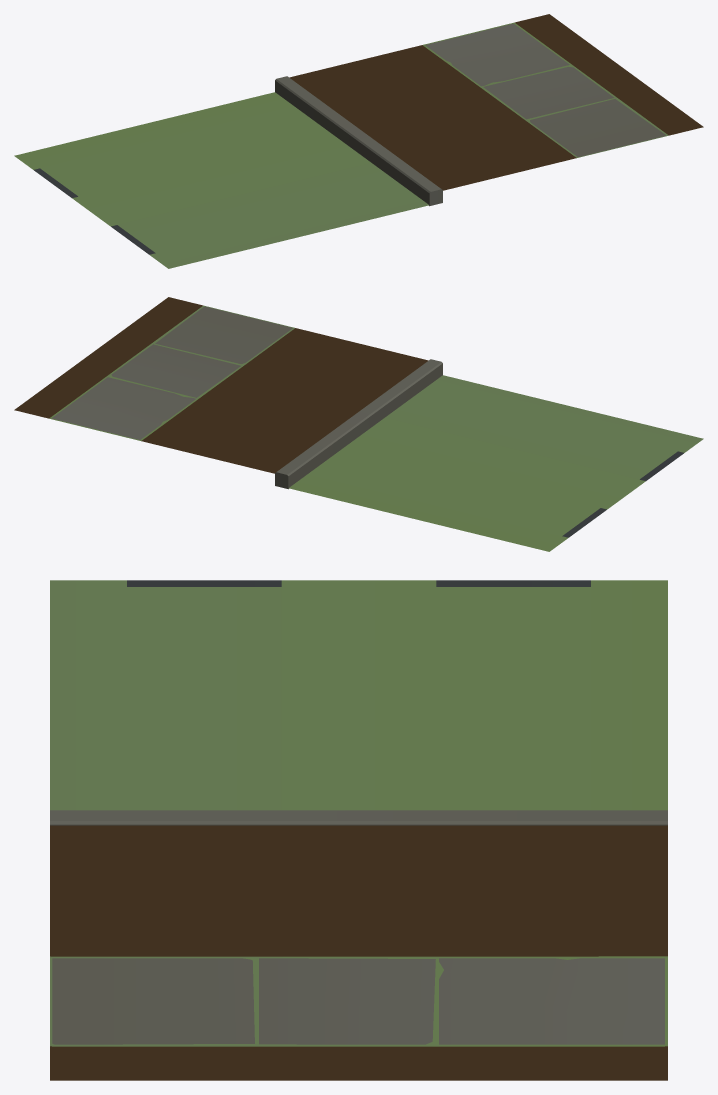
File: Road_39.fbx
3 views of the same model, one above another, from view 1: azimuth 30°, elevation 25°; view 2: azimuth 150°, elevation 25°; view 3: azimuth 270°, elevation 25° (orthographic). The views are drawn at different scales.
Visible parts, largest first — view 1: Road_39; view 2: Road_39; view 3: Road_39.
Boxes of the visible parts, box(x1,y1,x2,y2) form: Road_39: box(14, 14, 703, 268); Road_39: box(14, 297, 703, 551); Road_39: box(50, 580, 667, 1080).
Bounding box in the file's own units: 6 × 0.15 × 3.
